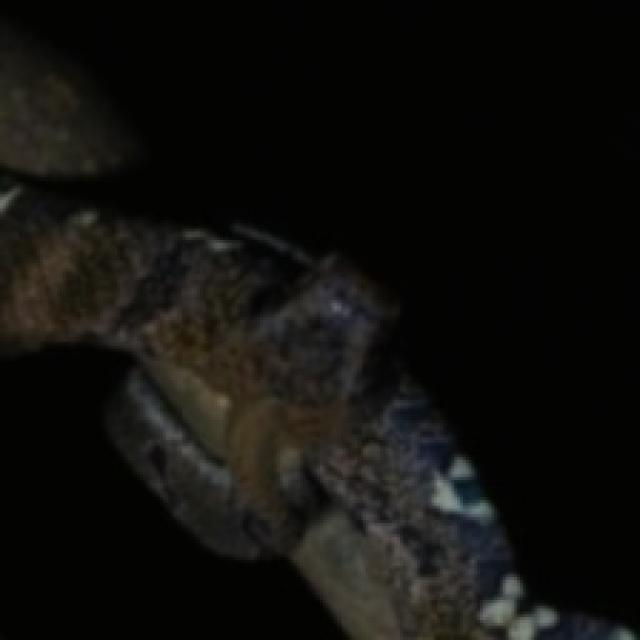dog-toothed cat snake: (0, 176, 589, 640)
